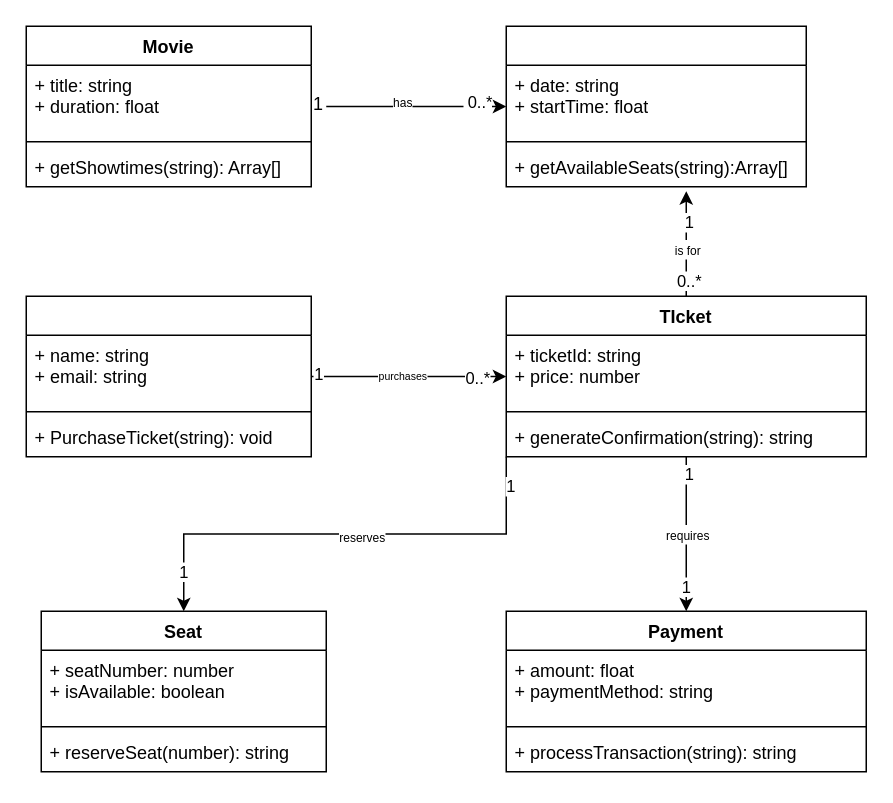
Image size: 893x803. Some labels were removed from this diagram. The box of each missing label's shape, as (x1, y1, x2, y2) in pixels:
Customer: (25, 295, 311, 457)
Showtime: (505, 25, 806, 187)
